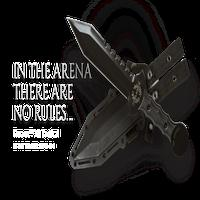knife: (60, 10, 185, 144)
